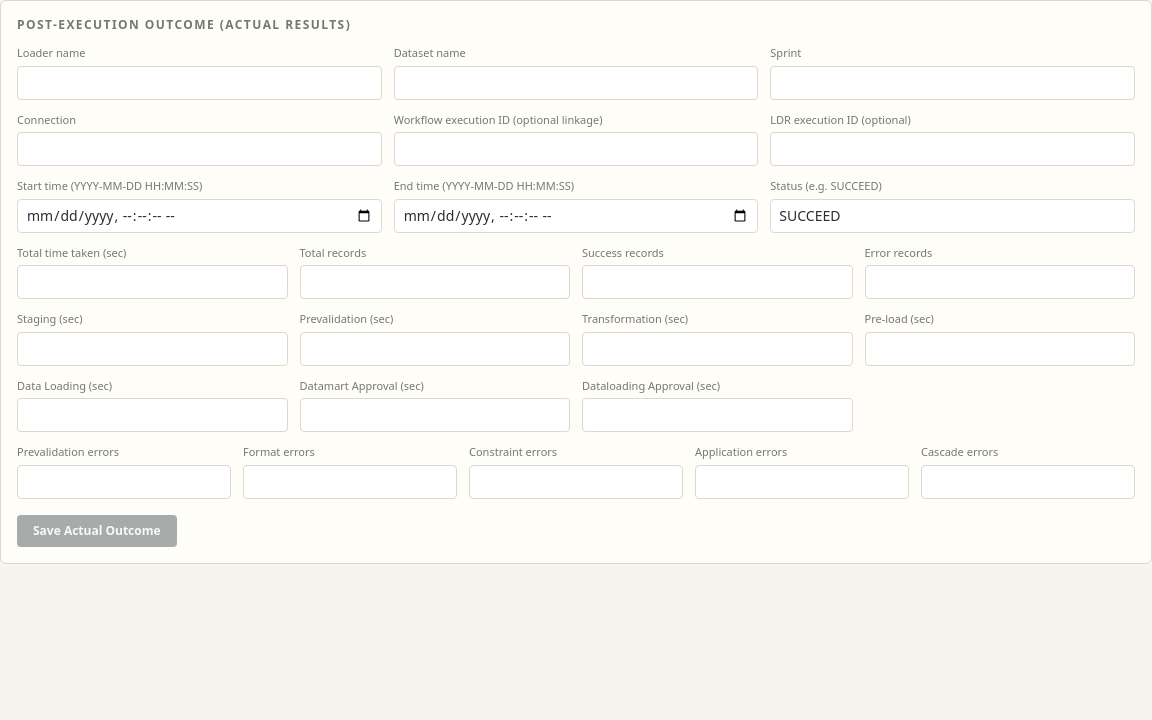
it: ActualOutcomeForm (2026-10-03 contract: fixed datetime format, seconds-only input) › derives the duration from Start/End when no explicit total is entered
Type "LoaderA" into the field with test id "out-loader".
click(199, 82); type("LoaderA")  # box x1=17 y1=66 x2=382 y2=100
Type "DS" into the field with test id "out-dataset".
click(576, 82); type("DS")  # box x1=394 y1=66 x2=758 y2=100
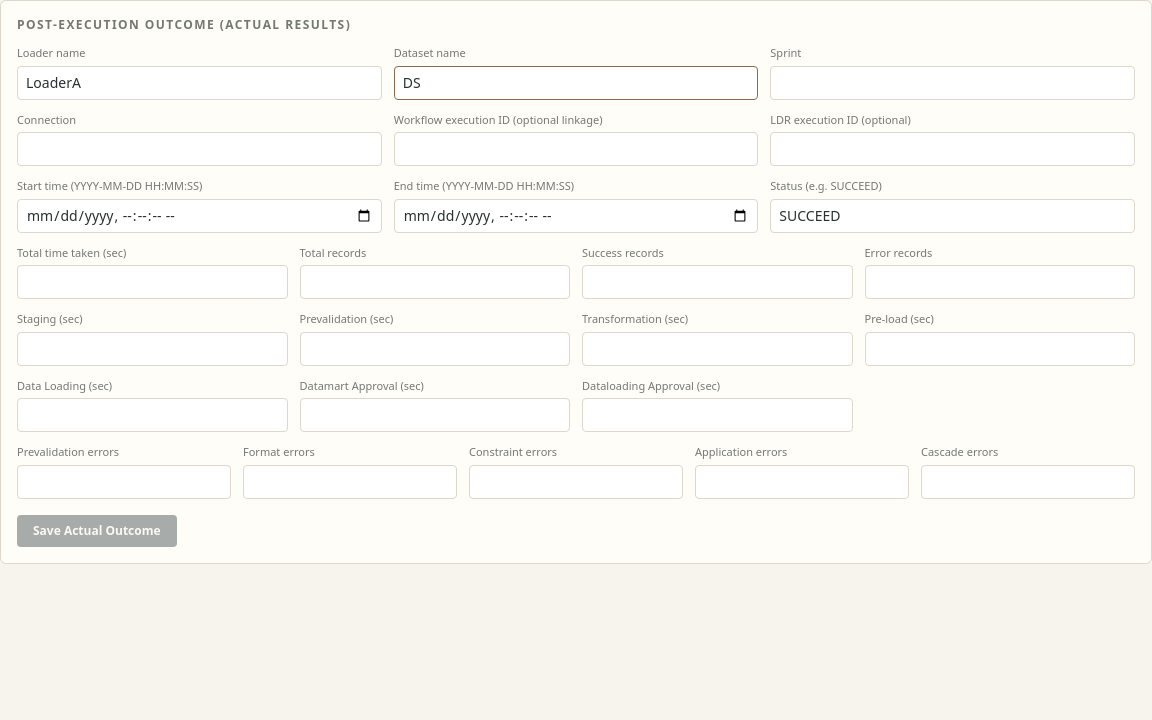
Type "S1" into the field with test id "out-sprint".
click(953, 82); type("S1")  # box x1=770 y1=66 x2=1135 y2=100
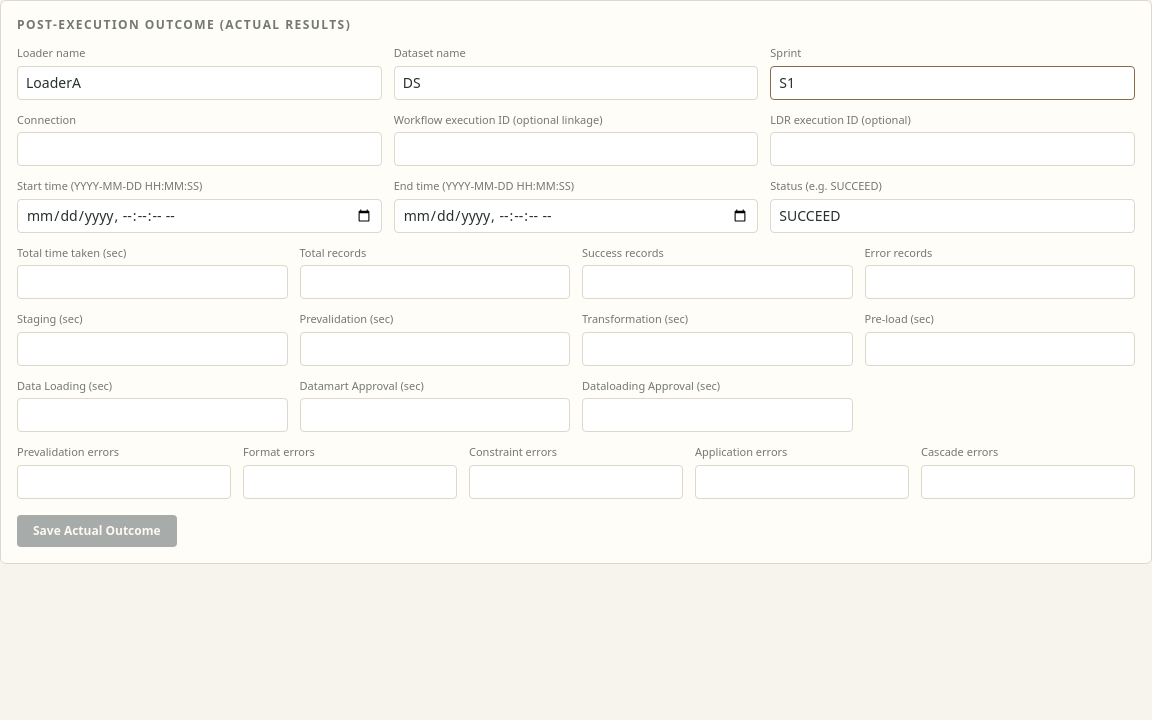
Type "C1" into the field with test id "out-connection".
click(199, 149); type("C1")  # box x1=17 y1=132 x2=382 y2=166
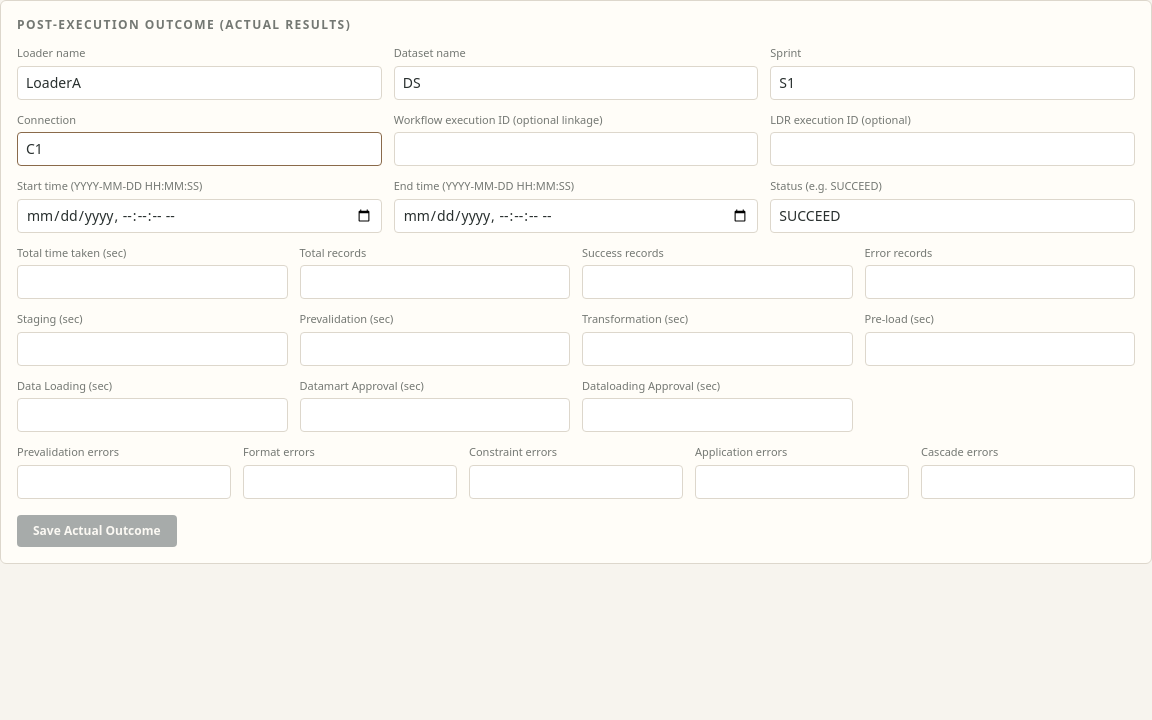
Type "2026-07-31T12:59:23" into the field with test id "out-start".
click(199, 216); type("2026-07-31T12:59:23")  # box x1=17 y1=198 x2=382 y2=232
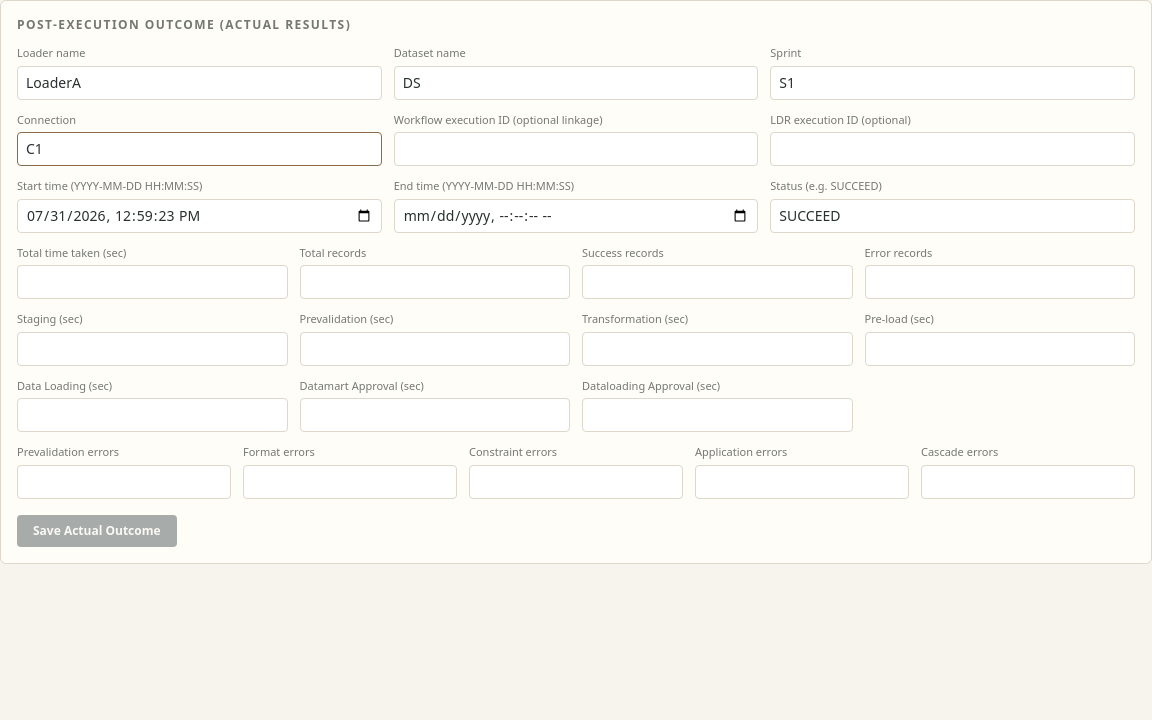
Type "2026-07-31T12:59:53" into the field with test id "out-end".
click(576, 216); type("2026-07-31T12:59:53")  # box x1=394 y1=198 x2=758 y2=232
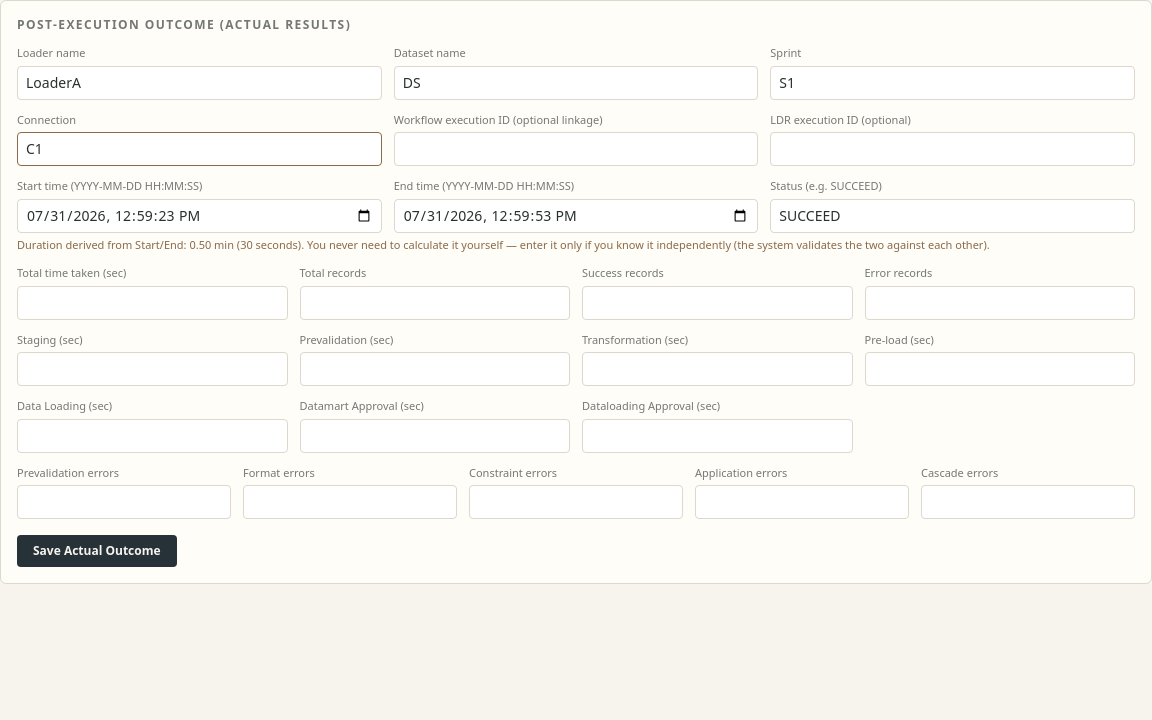
Click the button with test id "outcome-submit".
click(97, 551)  # box x1=17 y1=535 x2=177 y2=567
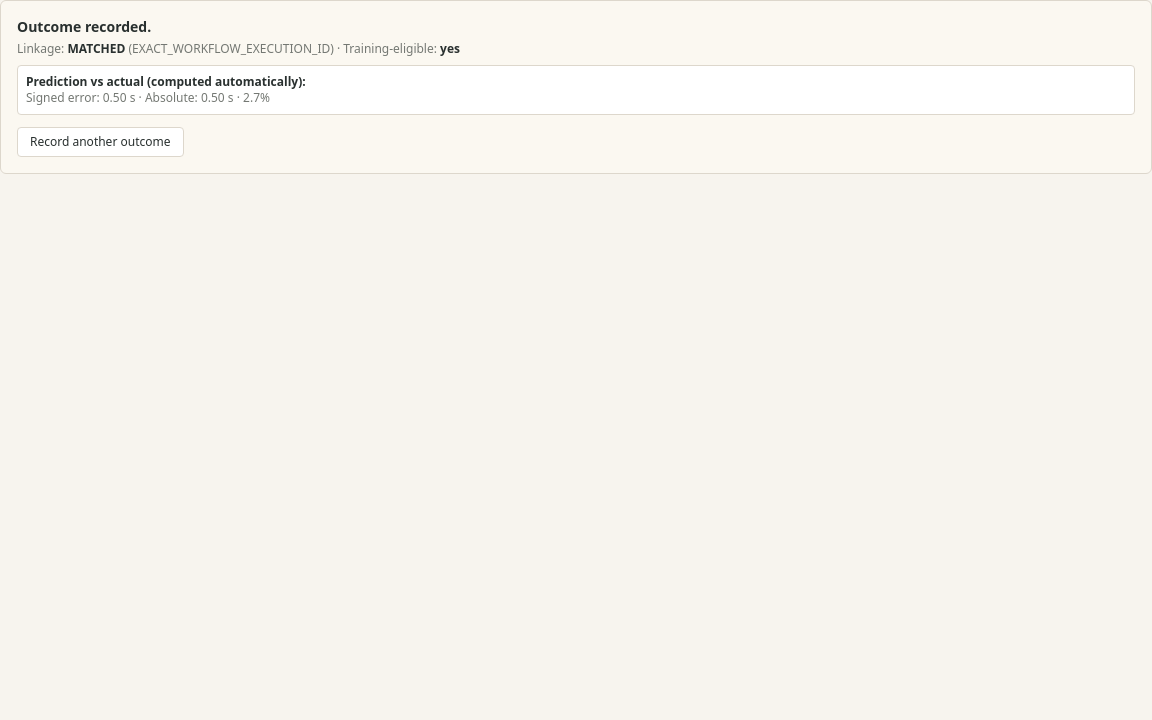
Expected: the element with test id "outcome-done" is shown, x1=0 y1=0 x2=1151 y2=174
